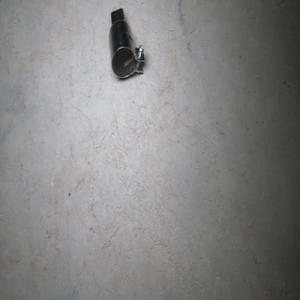MetalPart: (108, 7, 145, 79)
